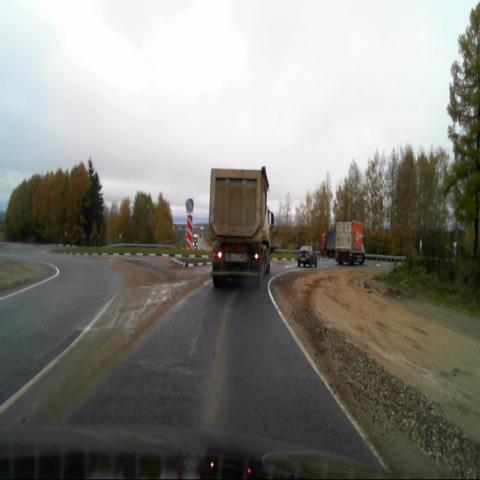4_2_1: (185, 198, 194, 212)
